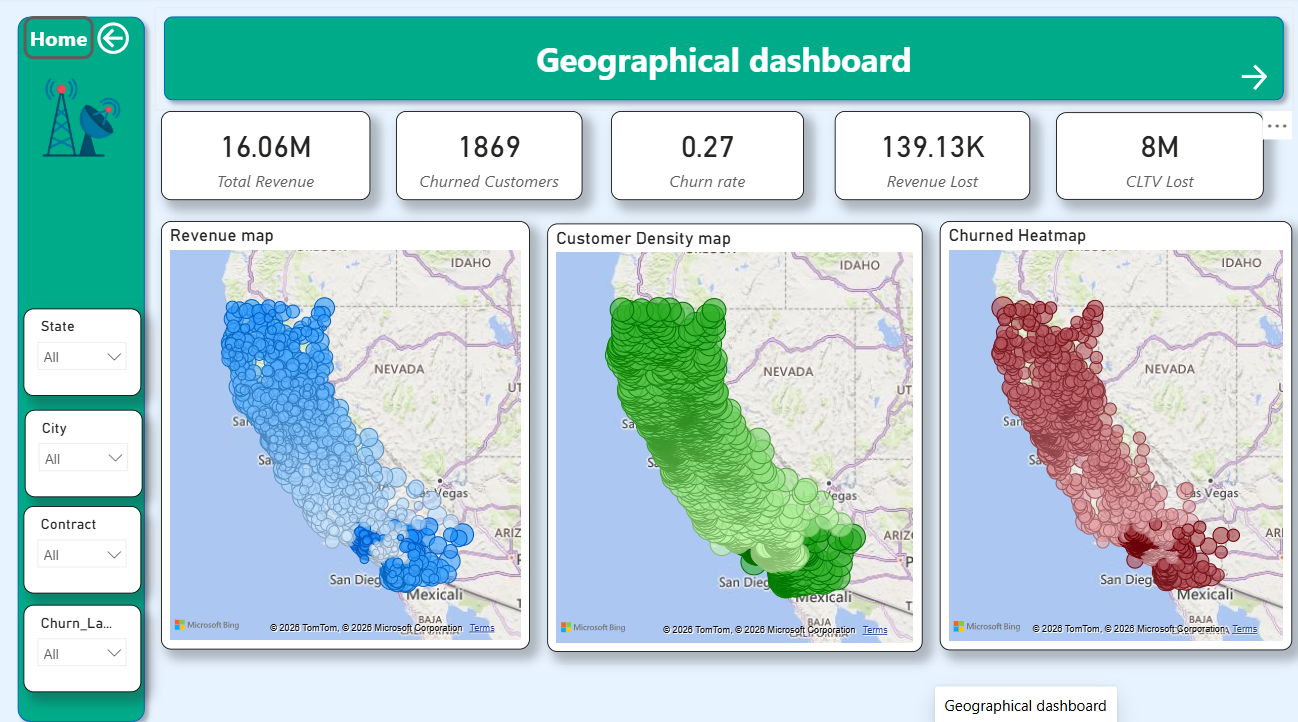

This screenshot's page, from the dashboard's own definition file:
{"tool":"powerbi","page":{"name":"Geographical dashboard","canvas":[1280,720],"ordinal":5},"visuals":[{"type":"card","fields":{"Values":["TELCO.Total Revenue"]},"box":[161.2,112.3,204.8,87.2],"z":0},{"type":"card","fields":{"Values":["TELCO.Revenue Lost"]},"box":[820.5,112.3,191.6,87.2],"z":1000},{"type":"card","fields":{"Values":["TELCO.CLTV Lost"]},"box":[1037.2,113.6,203.5,85.9],"z":2000},{"type":"shape","box":[155.2,11.5,1113.5,100.1],"z":3000},{"type":"shape","box":[12.8,11.5,142.4,708.1],"z":4000},{"type":"slicer","fields":{"Values":["TELCO.State"]},"box":[26.4,305.2,114.9,85.9],"z":5000},{"type":"slicer","fields":{"Values":["TELCO.City"]},"box":[27.7,404.3,114.9,85.9],"z":6000},{"type":"card","fields":{"Values":["TELCO.Churned Customers"]},"box":[391.1,112.3,182.3,87.2],"z":7000},{"type":"card","fields":{"Values":["TELCO.Churn rate"]},"box":[601.2,112.3,188.9,87.2],"z":8000},{"type":"slicer","fields":{"Values":["TELCO.Contract"]},"box":[26.4,499.4,114.9,85.9],"z":9000},{"type":"slicer","fields":{"Values":["TELCO.Churn_Label"]},"box":[26.4,595.9,114.9,85.9],"z":10000},{"type":"map","title":"Revenue map","fields":{"Y":["TELCO.Latitude"],"X":["TELCO.Longitude"],"Size":["TELCO.Total Revenue"]},"box":[161.2,220.6,360.7,418.8],"z":11000},{"type":"map","title":"Customer Density map","fields":{"Y":["TELCO.Latitude"],"X":["TELCO.Longitude"],"Size":["CountNonNull(TELCO.CustomerID)"]},"box":[539.1,222,367.3,418.8],"z":12000},{"type":"map","title":"Churned Heatmap","fields":{"Y":["TELCO.Latitude"],"X":["TELCO.Longitude"],"Size":["TELCO.Churned Customers"]},"box":[923.5,220.6,344.8,420.1],"z":13000},{"type":"actionButton","box":[26.4,19.8,68.7,42.3],"z":14000},{"type":"actionButton","box":[93.8,21.1,60.8,41],"z":15000},{"type":"actionButton","box":[1212.6,62.1,67.4,34.4],"z":16000},{"type":"image","box":[45.2,79.5,77,78.3],"z":16001}]}

Visuals, with their boxes on the page's 1280x720 design canvas (x1, y1, x2, y2). These are canvas units, not pixel positions in the 1298x722 screenshot, which may show the page scaled, cropped or inside an application window:
card - TELCO.Total Revenue: <box>161,112,366,200</box>
card - TELCO.Revenue Lost: <box>820,112,1012,200</box>
card - TELCO.CLTV Lost: <box>1037,114,1241,200</box>
shape: <box>155,12,1269,112</box>
shape: <box>13,12,155,720</box>
slicer - TELCO.State: <box>26,305,141,391</box>
slicer - TELCO.City: <box>28,404,143,490</box>
card - TELCO.Churned Customers: <box>391,112,573,200</box>
card - TELCO.Churn rate: <box>601,112,790,200</box>
slicer - TELCO.Contract: <box>26,499,141,585</box>
slicer - TELCO.Churn_Label: <box>26,596,141,682</box>
"Revenue map" map: <box>161,221,522,639</box>
"Customer Density map" map: <box>539,222,906,641</box>
"Churned Heatmap" map: <box>924,221,1268,641</box>
actionButton: <box>26,20,95,62</box>
actionButton: <box>94,21,155,62</box>
actionButton: <box>1213,62,1280,96</box>
image: <box>45,80,122,158</box>
